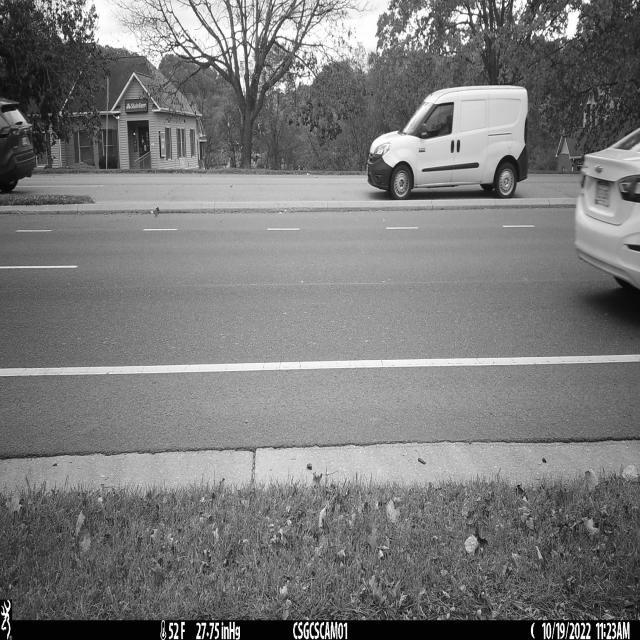Van: (367, 85, 530, 200)
